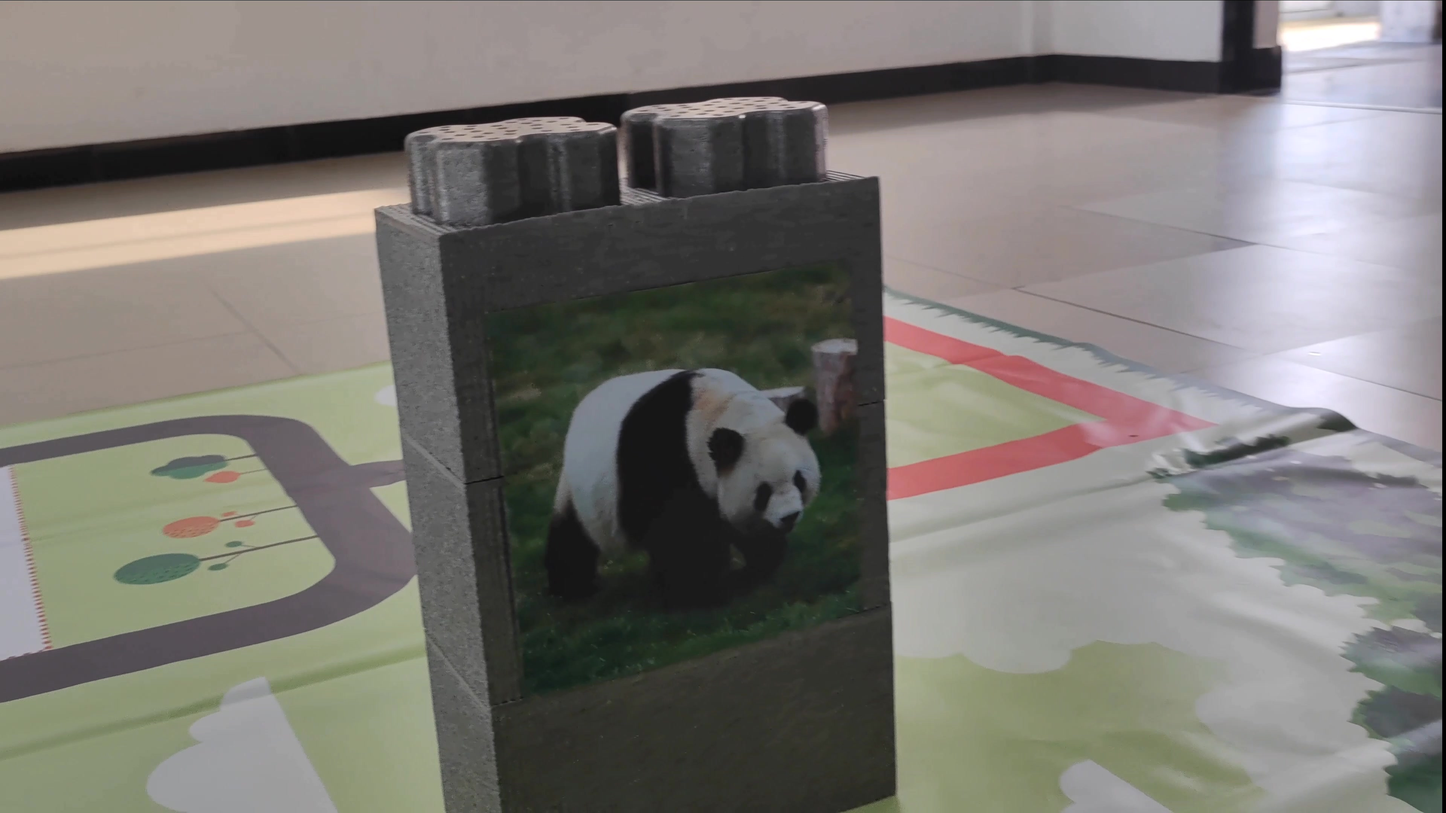panda: (514, 355, 852, 583)
